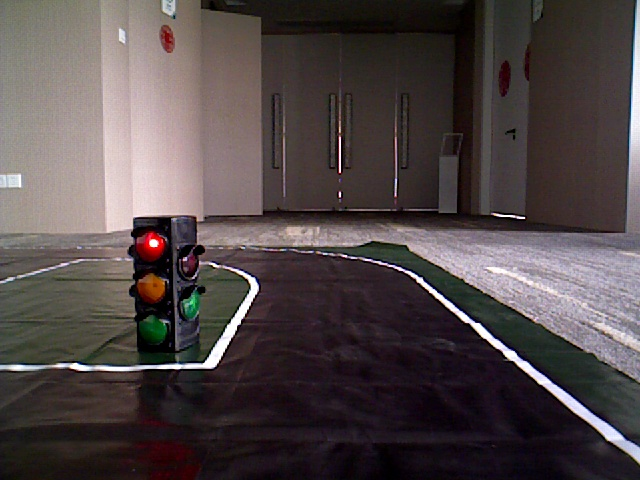red: (128, 223, 178, 353)
